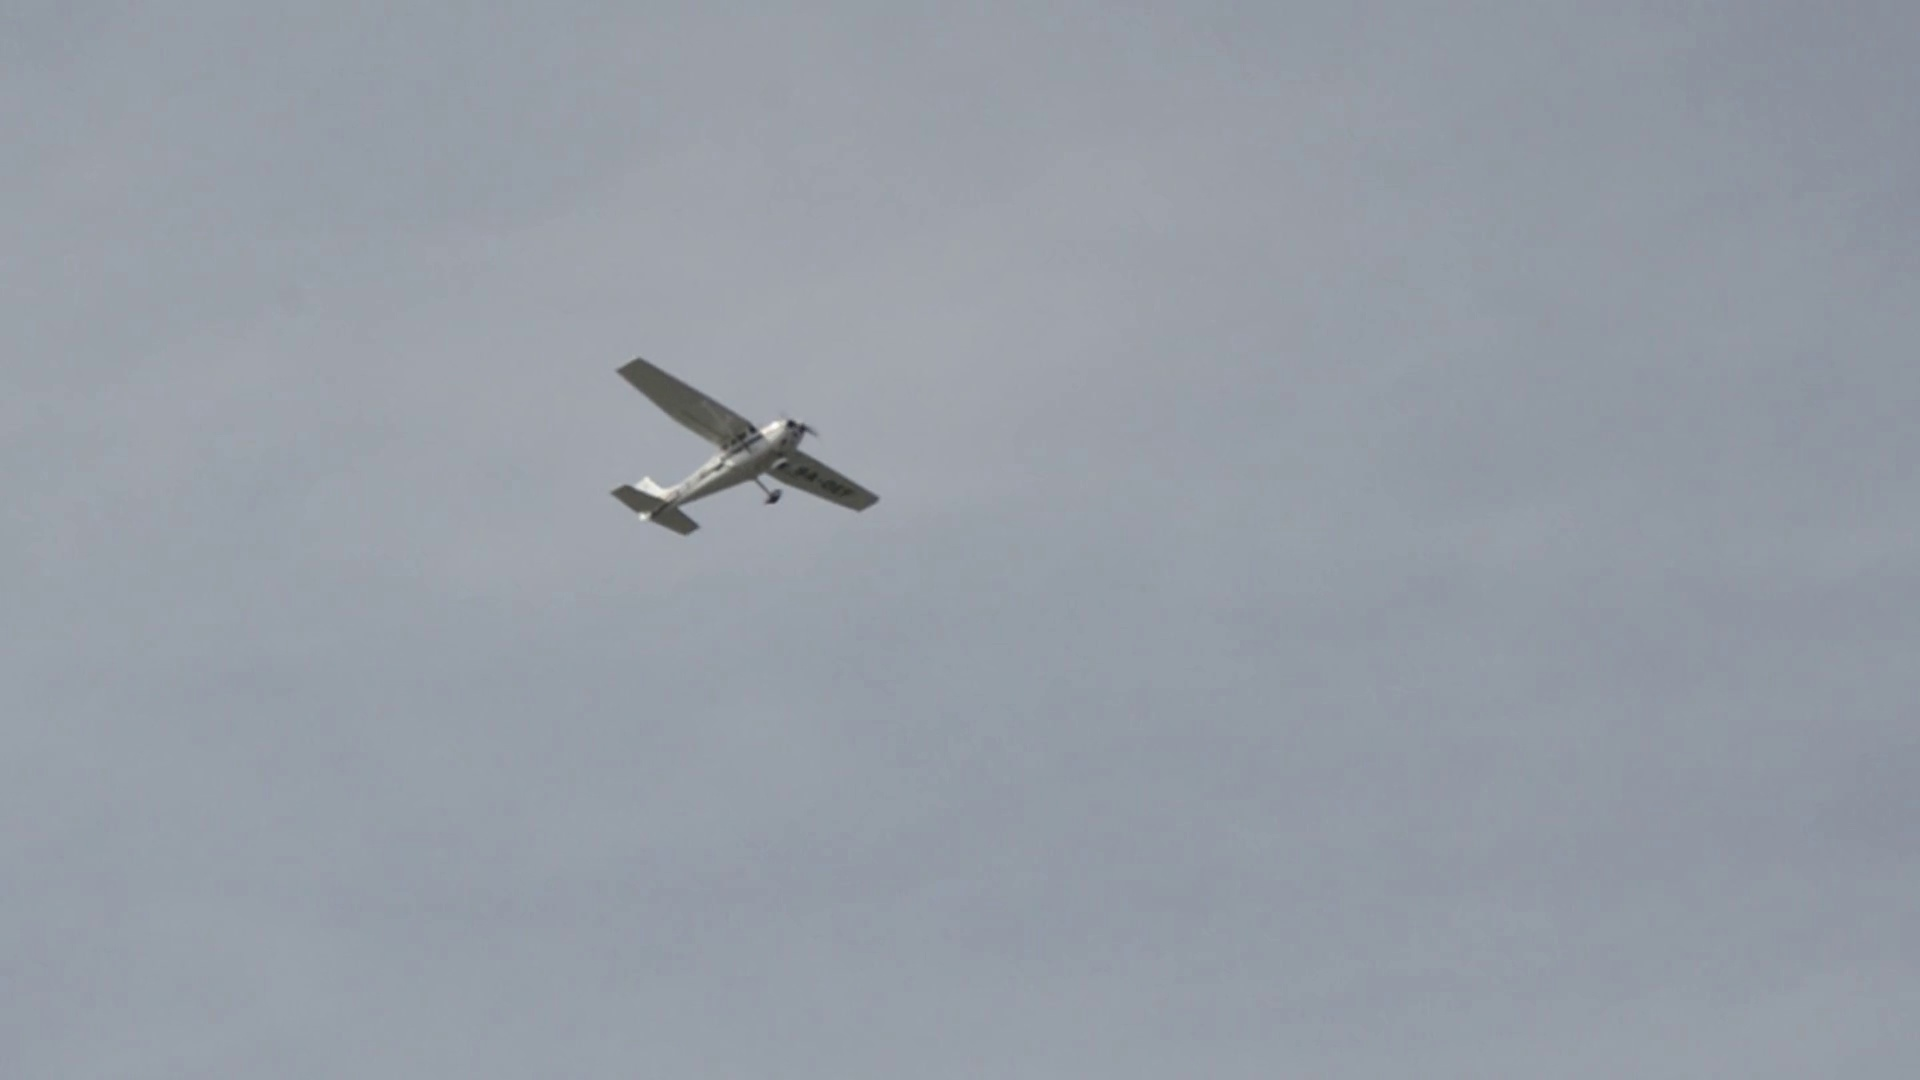plane: (607, 357, 877, 541)
